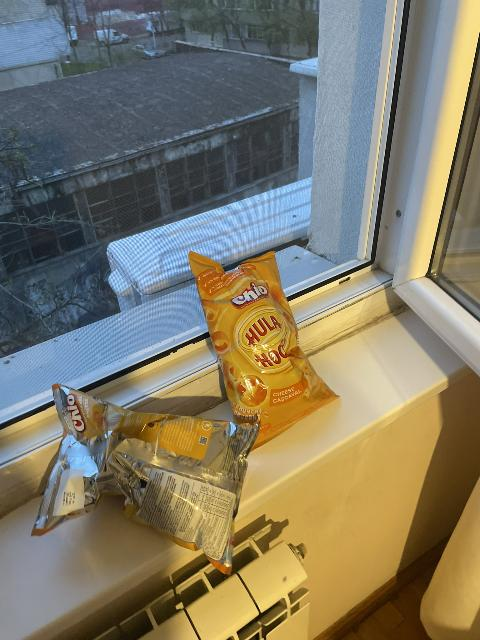Chio Cascaval 125g: (38, 382, 252, 575)
Chio Hula Hoops Cheese 70g: (191, 251, 337, 450)
